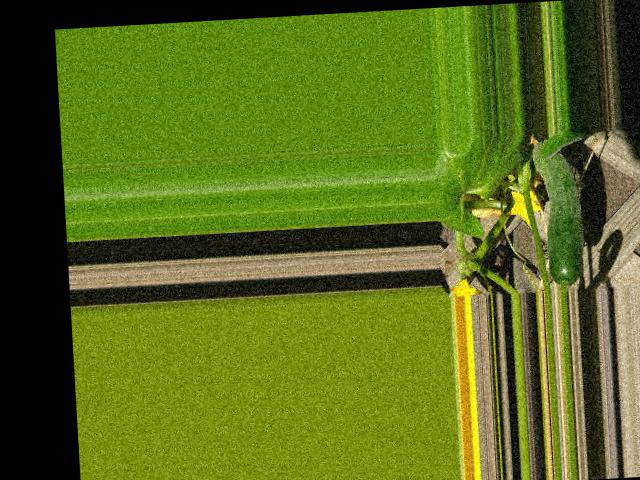cucumber: (531, 132, 586, 285)
